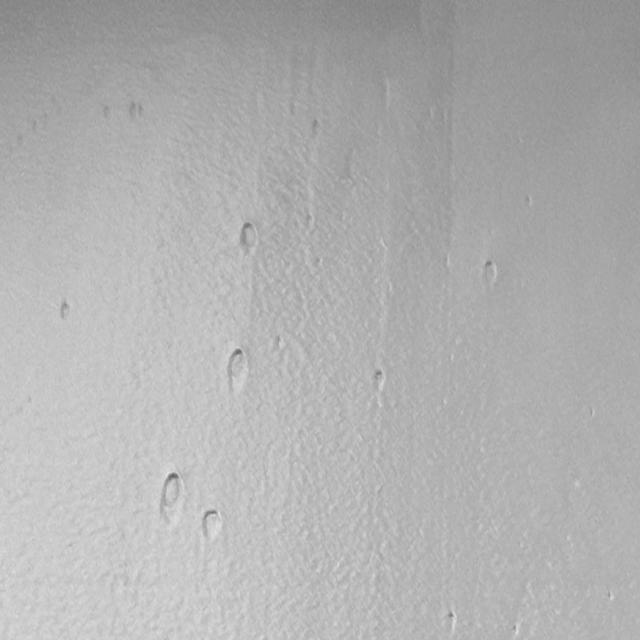pin holes: (157, 467, 189, 526), (223, 346, 250, 390), (199, 508, 225, 541), (238, 221, 261, 255), (480, 257, 501, 288), (440, 609, 461, 636), (126, 102, 146, 125), (370, 369, 388, 394), (57, 298, 75, 323), (310, 119, 325, 140), (100, 104, 114, 126), (272, 333, 286, 353), (521, 194, 535, 211), (302, 214, 315, 232), (507, 623, 522, 638), (604, 588, 618, 604)
